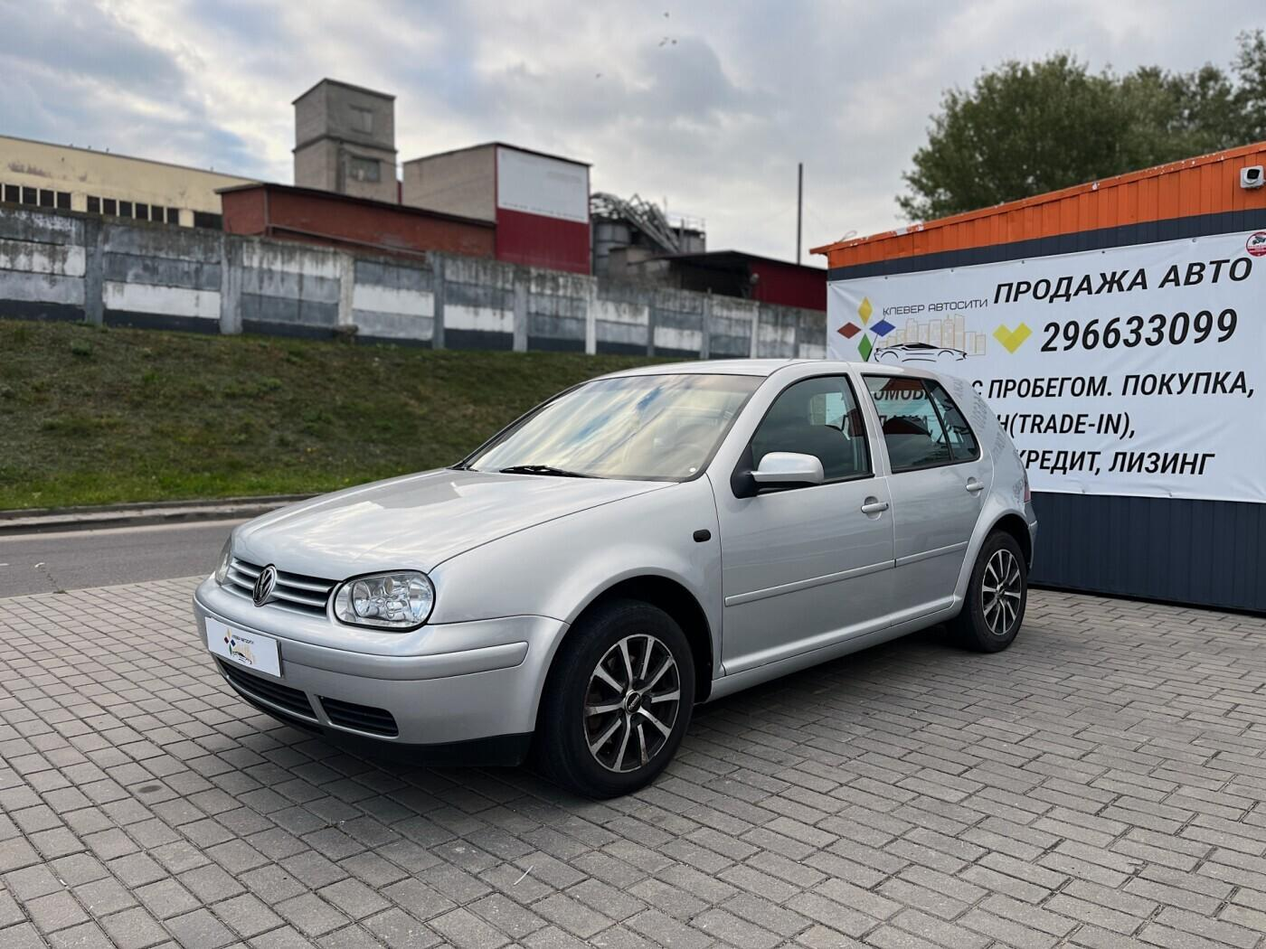Golf_1997-2006: (192, 349, 1048, 799)
